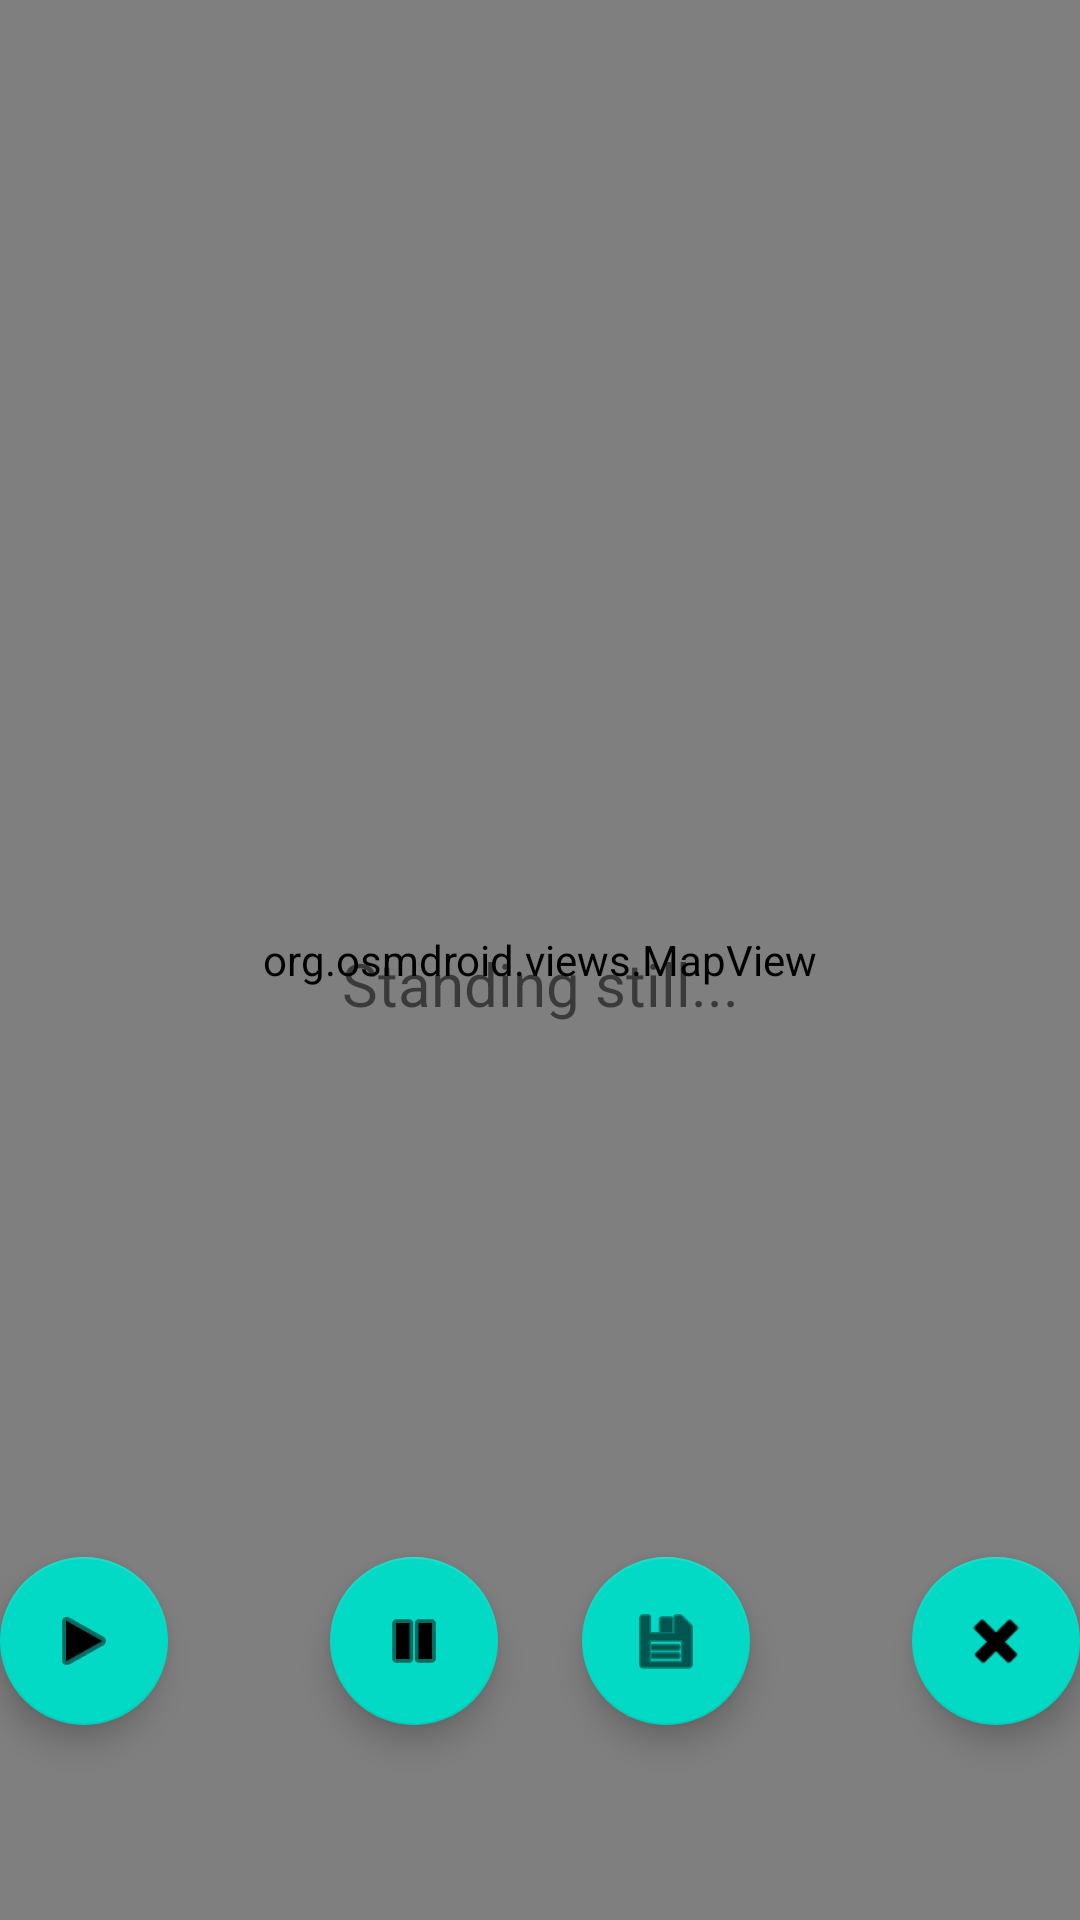

Where icons sit on this 1080 x 1920 app screen, as [left=x1, top=y1, right=x2, bottom=y2]:
delete: [left=912, top=1557, right=1080, bottom=1725]
pause: [left=330, top=1557, right=498, bottom=1725]
play: [left=0, top=1557, right=168, bottom=1725]
save: [left=582, top=1557, right=750, bottom=1725]
